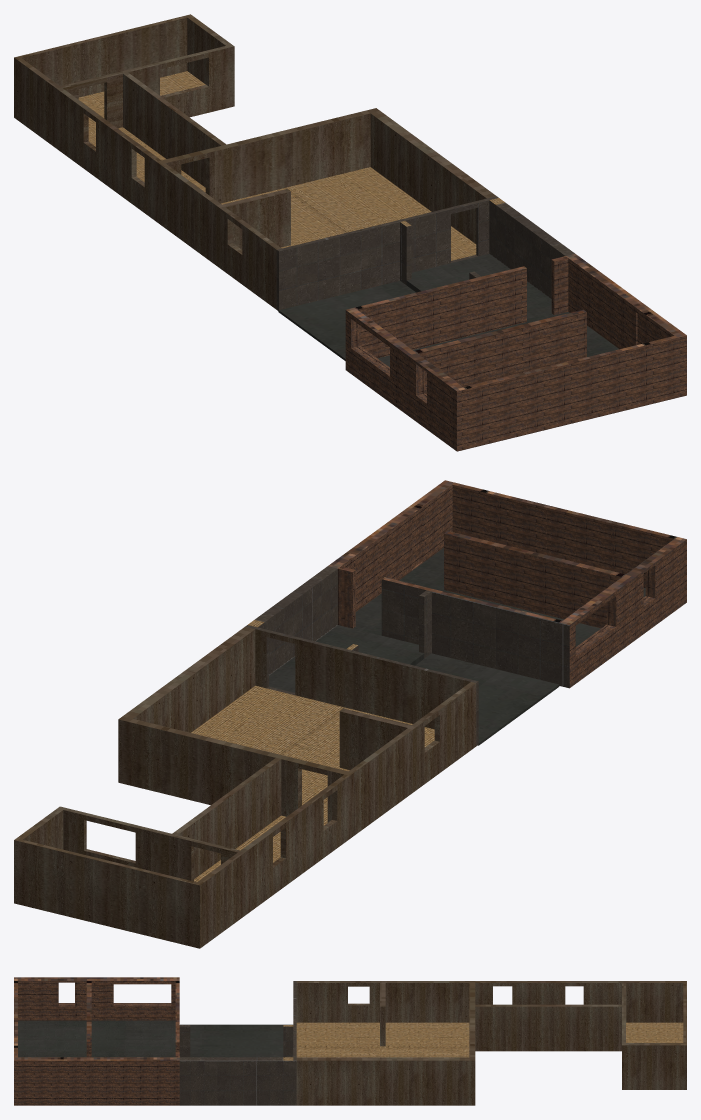
File: Modelo Edificacion Depto.fbx
3 views of the same model, one above another, from view 1: azimuth 30°, elevation 25°; view 2: azimuth 150°, elevation 25°; view 3: azimuth 270°, elevation 25° (orthographic). The views are drawn at different scales.
Visible parts, largest first — view 1: ParedPorton; view 2: ParedPorton; view 3: ParedPorton.
Part boxes in pixels (x1,y1,x2,y2): ParedPorton: (14,14,686,451); ParedPorton: (14,480,686,948); ParedPorton: (14,977,686,1105).
Bounding box in the file's own units: 1000 × 253 × 3413.
Materials: 5 (5 with a texture image).
